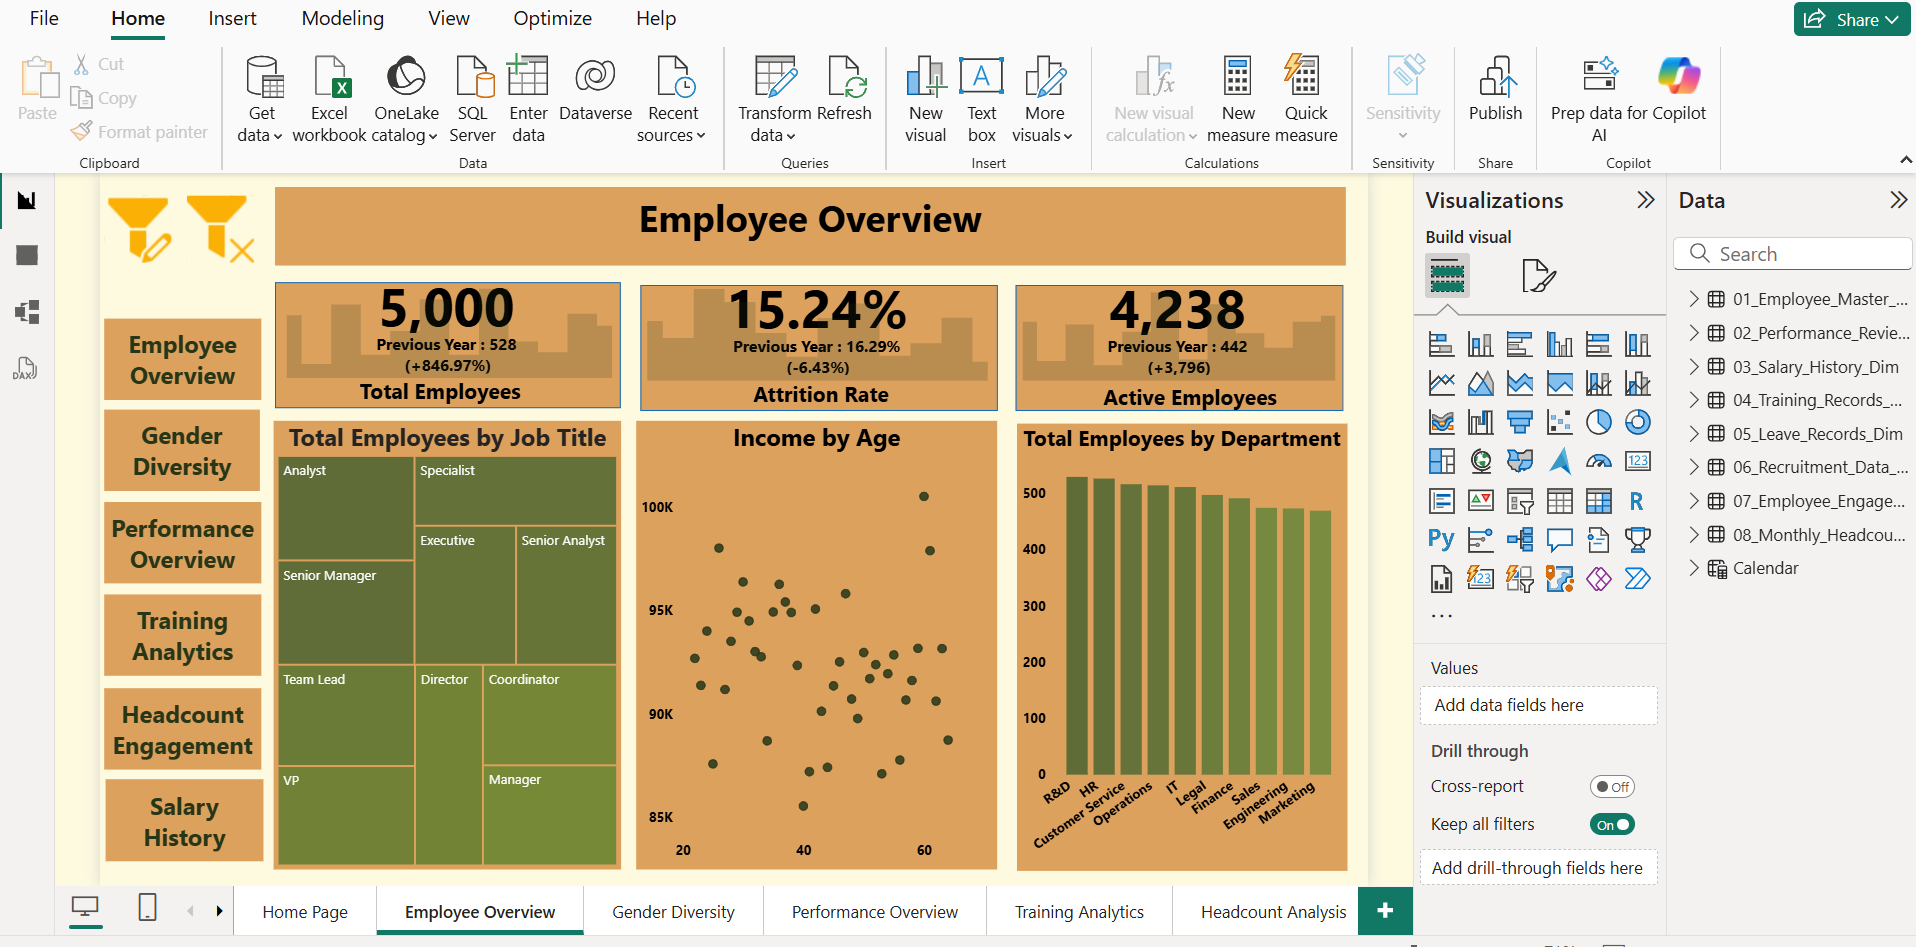

This screenshot's page, from the dashboard's own definition file:
{"tool":"powerbi","page":{"name":"Employee Overview","canvas":[1280,720],"ordinal":1},"visuals":[{"type":"textbox","box":[176.6,14.1,1080.9,79.1],"z":0},{"type":"shape","box":[176.6,110.2,349,127.2],"z":0,"group":"g2"},{"type":"shape","box":[545.1,112.4,360.7,127.2],"z":0,"group":"g3"},{"type":"shape","box":[923.5,112.5,330.9,127.2],"z":0,"group":"g4"},{"type":"actionButton","box":[4.4,147.5,158.2,81.9],"z":0,"group":"g1"},{"type":"textbox","box":[257.2,199.6,187.8,55.8],"z":1000,"group":"g2"},{"type":"textbox","box":[654.2,203.3,162.4,49.1],"z":1000,"group":"g3"},{"type":"textbox","box":[1007.2,206.1,203,55.8],"z":1000,"group":"g4"},{"type":"actionButton","box":[4.4,239.3,156.8,81.9],"z":1000,"group":"g1"},{"type":"treemap","title":"Total Employees by Job Title","fields":{"Values":["CountNonNull(01_Employee_Master_Fact.EmployeeID)"],"Group":["employee data.JobTitle"]},"box":[175.5,250.7,351,452.8],"z":1000},{"type":"kpi","fields":{"Indicator":["01_Employee_Master_Fact.Employee Count"],"TrendLine":["01_Employee_Master_Fact.DummyDate"],"Goal":["01_Employee_Master_Fact.Employee PY"]},"box":[246.6,103.8,204.7,98.1],"z":2000,"group":"g2"},{"type":"kpi","fields":{"TrendLine":["01_Employee_Master_Fact.DummyDate"],"Indicator":["01_Employee_Master_Fact.Attrition Rate"],"Goal":["01_Employee_Master_Fact.Attrition Rate PY"]},"box":[617.5,106.1,211.6,98.1],"z":2000,"group":"g3"},{"type":"kpi","fields":{"TrendLine":["01_Employee_Master_Fact.DummyDate"],"Indicator":["01_Employee_Master_Fact.Active Employee"],"Goal":["01_Employee_Master_Fact.Active Employees PY"]},"box":[989.9,106.1,194.1,98.1],"z":2000,"group":"g4"},{"type":"scatterChart","title":"Income by Age","fields":{"X":["01_Employee_Master_Fact.Age"],"Y":["01_Employee_Master_Fact.Average Income"]},"box":[541.3,250.7,364.3,452.8],"z":2000},{"type":"actionButton","box":[4.4,520.5,158.2,81.9],"z":2000,"group":"g1"},{"type":"lineChart","fields":{"Y":["01_Employee_Master_Fact.Employee Count"],"Category":["Calendar.Month Name"]},"box":[177.3,89.8,351.9,116.7],"z":3000,"group":"g2"},{"type":"lineChart","fields":{"Category":["Calendar.Month Name"],"Y":["01_Employee_Master_Fact.Attrition Rate"]},"box":[539.8,103.2,368.8,106.6],"z":3000,"group":"g3"},{"type":"lineChart","fields":{"Category":["Calendar.Month Name"],"Y":["01_Employee_Master_Fact.Active Employee"]},"box":[919.2,111.3,338.4,98.1],"z":3000,"group":"g4"},{"type":"actionButton","box":[4.4,425.8,158.2,81.9],"z":3000,"group":"g1"},{"type":"clusteredColumnChart","title":"Total Employees by Department","fields":{"Category":["employee data.Department"],"Y":["employee data.Employee Count"]},"box":[924.8,252.2,333.3,451.3],"z":4000},{"type":"actionButton","box":[4.4,332.6,158.2,81.9],"z":4000,"group":"g1"},{"type":"actionButton","box":[5.2,612.2,159,82.9],"z":4500,"group":"g1"},{"type":"actionButton","box":[0,18.4,79.1,76.3],"z":5000},{"type":"actionButton","box":[83.3,17.7,79.8,76.2],"z":6000},{"type":"group","id":"g1","title":"Menu Buttons","box":[4.4,147.5,159.3,547.2],"z":7000},{"type":"group","id":"g2","title":"Kpi","box":[176.6,89.8,352.6,165.7],"z":9000},{"type":"group","id":"g3","title":"Kpi","box":[539.8,103.2,368.7,150.4],"z":10000},{"type":"group","id":"g4","title":"Kpi","box":[919.2,106.1,338.4,155.8],"z":11000}]}

Visuals, with their boxes on the page's 1280x720 design canvas (x1, y1, x2, y2). These are canvas units, not pixel positions in the 1916x947 screenshot, which may show the page scaled, cropped or inside an application window:
textbox: {"left": 177, "top": 14, "right": 1258, "bottom": 93}
shape: {"left": 177, "top": 110, "right": 526, "bottom": 237}
shape: {"left": 545, "top": 112, "right": 906, "bottom": 240}
shape: {"left": 924, "top": 112, "right": 1254, "bottom": 240}
actionButton: {"left": 4, "top": 148, "right": 163, "bottom": 229}
textbox: {"left": 257, "top": 200, "right": 445, "bottom": 255}
textbox: {"left": 654, "top": 203, "right": 817, "bottom": 252}
textbox: {"left": 1007, "top": 206, "right": 1210, "bottom": 262}
actionButton: {"left": 4, "top": 239, "right": 161, "bottom": 321}
"Total Employees by Job Title" treemap: {"left": 176, "top": 251, "right": 526, "bottom": 704}
kpi - 01_Employee_Master_Fact.Employee Count x 01_Employee_Master_Fact.DummyDate: {"left": 247, "top": 104, "right": 451, "bottom": 202}
kpi - 01_Employee_Master_Fact.DummyDate x 01_Employee_Master_Fact.Attrition Rate: {"left": 618, "top": 106, "right": 829, "bottom": 204}
kpi - 01_Employee_Master_Fact.DummyDate x 01_Employee_Master_Fact.Active Employee: {"left": 990, "top": 106, "right": 1184, "bottom": 204}
"Income by Age" scatterChart: {"left": 541, "top": 251, "right": 906, "bottom": 704}
actionButton: {"left": 4, "top": 520, "right": 163, "bottom": 602}
lineChart - 01_Employee_Master_Fact.Employee Count x Calendar.Month Name: {"left": 177, "top": 90, "right": 529, "bottom": 206}
lineChart - Calendar.Month Name x 01_Employee_Master_Fact.Attrition Rate: {"left": 540, "top": 103, "right": 909, "bottom": 210}
lineChart - Calendar.Month Name x 01_Employee_Master_Fact.Active Employee: {"left": 919, "top": 111, "right": 1258, "bottom": 209}
actionButton: {"left": 4, "top": 426, "right": 163, "bottom": 508}
"Total Employees by Department" clusteredColumnChart: {"left": 925, "top": 252, "right": 1258, "bottom": 704}
actionButton: {"left": 4, "top": 333, "right": 163, "bottom": 414}
actionButton: {"left": 5, "top": 612, "right": 164, "bottom": 695}
actionButton: {"left": 0, "top": 18, "right": 79, "bottom": 95}
actionButton: {"left": 83, "top": 18, "right": 163, "bottom": 94}
"Menu Buttons" group: {"left": 4, "top": 148, "right": 164, "bottom": 695}
"Kpi" group: {"left": 177, "top": 90, "right": 529, "bottom": 256}
"Kpi" group: {"left": 540, "top": 103, "right": 908, "bottom": 254}
"Kpi" group: {"left": 919, "top": 106, "right": 1258, "bottom": 262}
